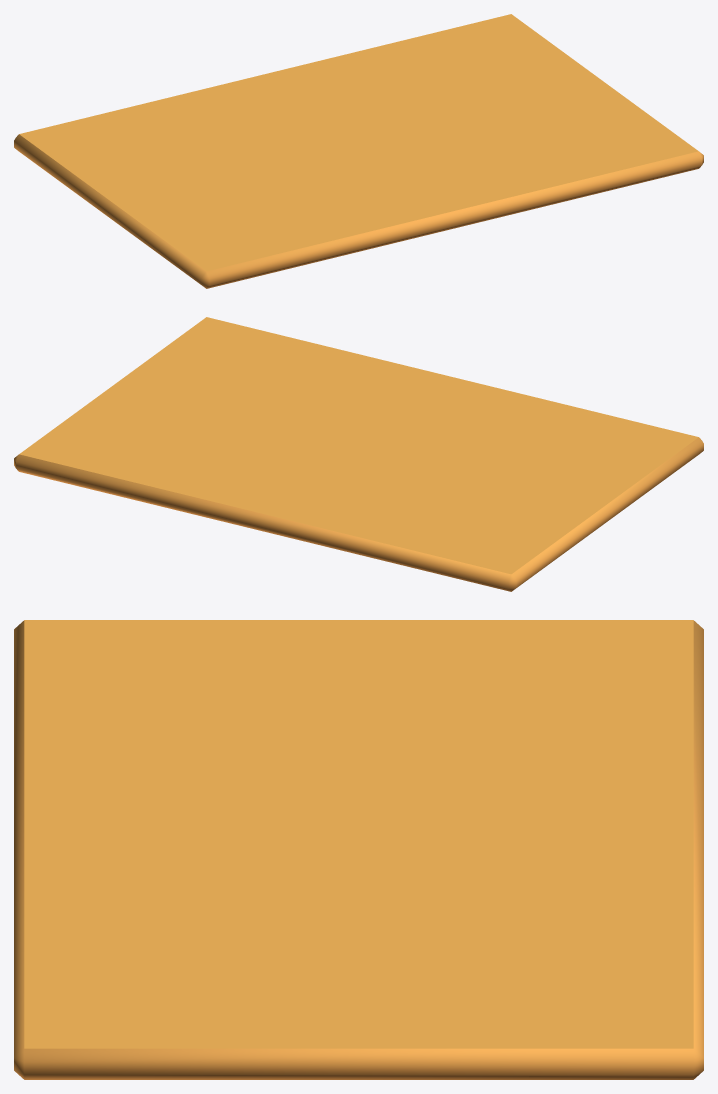
File: rug_rectangle_A.glb
3 renders of one model, top to bottom at view 1: azimuth 30°, elevation 25°; view 2: azimuth 150°, elevation 25°; view 3: azimuth 270°, elevation 25°, orthographic. The views are drawn at different scales.
Parts seen in each view (by area): view 1: rug_rectangle_A; view 2: rug_rectangle_A; view 3: rug_rectangle_A.
Boxes of the visible parts, x1,y1,x2,y2 form: rug_rectangle_A: (14, 14, 703, 288); rug_rectangle_A: (14, 317, 703, 591); rug_rectangle_A: (14, 620, 703, 1079).
Bounding box in the file's own units: 3 × 0.1 × 2.
Materials: 1 (1 with a texture image).
